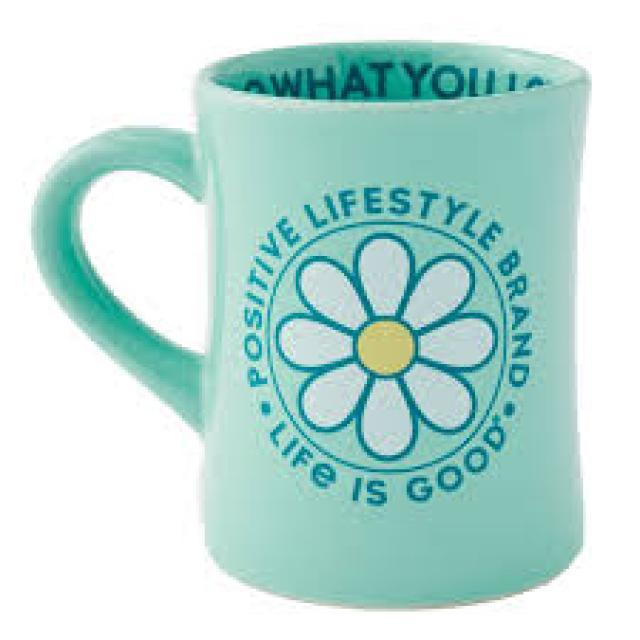taza: (30, 40, 591, 610)
